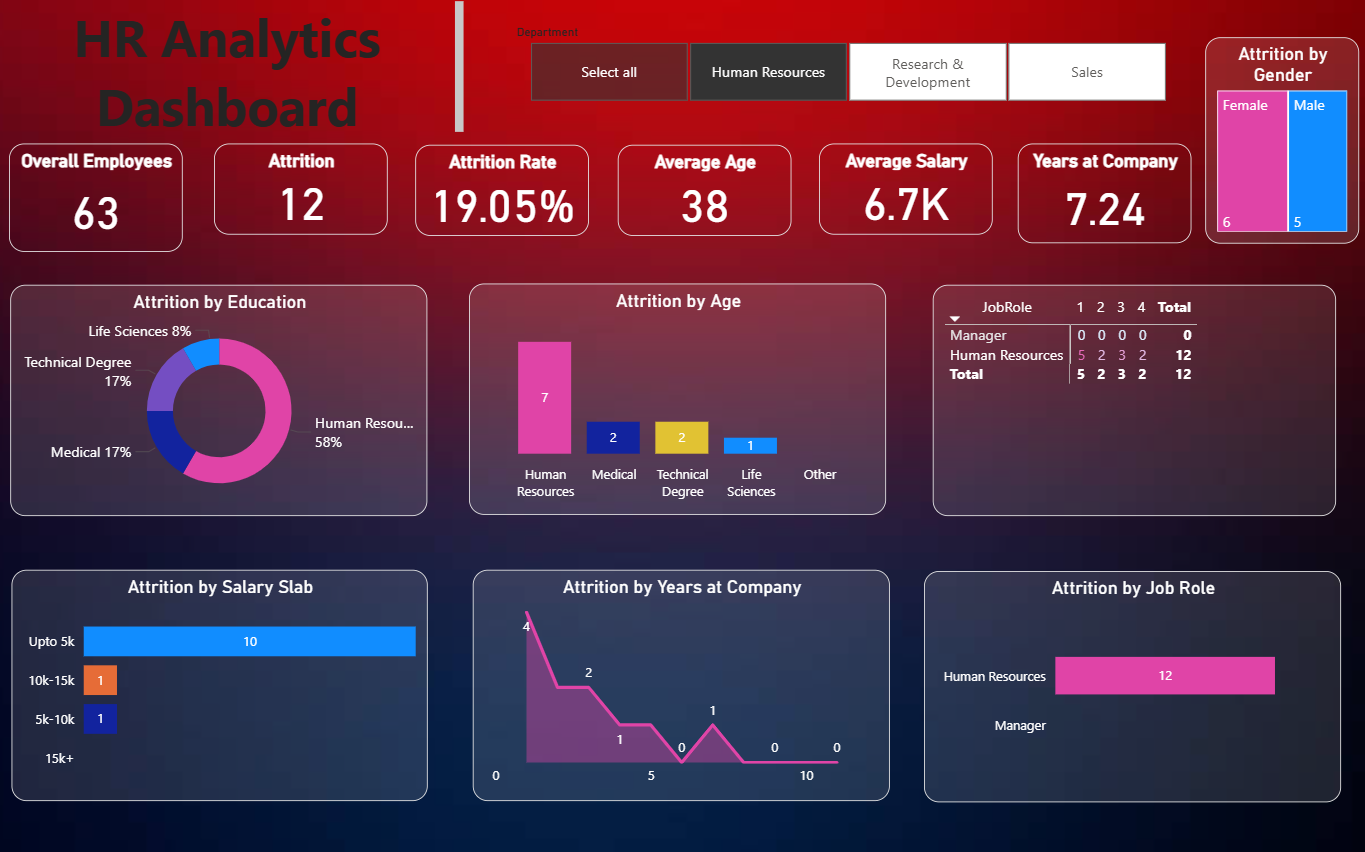

Layout of this report page (visuals, bound fields, positions):
{"tool":"powerbi","page":{"name":"Page 1","canvas":[1280,800],"ordinal":0},"visuals":[{"type":"card","title":"Overall Employees","fields":{"Values":["CountNonNull(HR_Analytics.EmpID)"]},"box":[14,137.2,161.6,101.2],"z":0},{"type":"card","title":"Attrition","fields":{"Values":["Sum(HR_Analytics.AttritionCount)"]},"box":[204.7,137.2,161.6,84.9],"z":1000},{"type":"card","title":"Attrition Rate","fields":{"Values":["HR_Analytics.AttritionRate"]},"box":[391.9,138.4,161.6,84.9],"z":2000},{"type":"card","title":"Average Age","fields":{"Values":["Avg(HR_Analytics.Age)"]},"box":[580.2,138.4,161.6,84.9],"z":3000},{"type":"card","title":"Average Salary","fields":{"Values":["Avg(HR_Analytics.MonthlyIncome)"]},"box":[767.4,137.2,161.6,84.9],"z":4000},{"type":"card","title":"Years at Company","fields":{"Values":["Avg(HR_Analytics.YearsAtCompany)"]},"box":[952.3,137.2,161.6,93],"z":5000},{"type":"donutChart","title":"Attrition by Education","fields":{"Category":["HR_Analytics.EducationField"],"Y":["Sum(HR_Analytics.AttritionCount)"]},"box":[15.1,268.6,388.4,215.1],"z":6000},{"type":"columnChart","title":"Attrition by Age","fields":{"Category":["HR_Analytics.EducationField"],"Y":["Sum(HR_Analytics.AttritionCount)"],"Series":["HR_Analytics.EducationField"]},"box":[441.9,267.4,388.4,215.1],"z":7000},{"type":"pivotTable","fields":{"Rows":["HR_Analytics.JobRole"],"Columns":["HR_Analytics.JobSatisfaction"],"Values":["Sum(HR_Analytics.AttritionCount)"]},"box":[873.3,268.6,375.6,215.1],"z":8000},{"type":"barChart","title":"Attrition by Salary Slab","fields":{"Category":["HR_Analytics.SalarySlab"],"Y":["Sum(HR_Analytics.AttritionCount)"],"Series":["HR_Analytics.SalarySlab"]},"box":[16.3,533.7,387.2,215.1],"z":9000},{"type":"barChart","title":"Attrition by Job Role","fields":{"Category":["HR_Analytics.JobRole"],"Y":["Sum(HR_Analytics.AttritionCount)"],"Series":["HR_Analytics.JobRole"]},"box":[865.1,534.9,388.4,215.1],"z":10000},{"type":"areaChart","title":"Attrition by Years at Company","fields":{"Category":["HR_Analytics.YearsAtCompany"],"Y":["Sum(HR_Analytics.AttritionCount)"]},"box":[445.4,533.7,388.4,215.1],"z":11000},{"type":"treemap","title":"Attrition by Gender","fields":{"Group":["HR_Analytics.Gender"],"Values":["Sum(HR_Analytics.AttritionCount)"]},"box":[1126.7,38.4,143,191.9],"z":12000},{"type":"slicer","fields":{"Values":["HR_Analytics.Department"]},"box":[473.3,22.1,640.7,82.6],"z":13000},{"type":"textbox","box":[0,0,441.9,134.9],"z":14000}]}

Visuals, with their boxes in screenshot pixels (x1, y1, x2, y2), scaled from the page's 1280x800 canvas onto the 1365x852 screenshot:
"Overall Employees" card: region(15, 146, 187, 254)
"Attrition" card: region(218, 146, 391, 237)
"Attrition Rate" card: region(418, 147, 590, 238)
"Average Age" card: region(619, 147, 791, 238)
"Average Salary" card: region(818, 146, 991, 237)
"Years at Company" card: region(1016, 146, 1188, 245)
"Attrition by Education" donutChart: region(16, 286, 430, 515)
"Attrition by Age" columnChart: region(471, 285, 885, 514)
pivotTable - HR_Analytics.JobRole x HR_Analytics.JobSatisfaction: region(931, 286, 1332, 515)
"Attrition by Salary Slab" barChart: region(17, 568, 430, 797)
"Attrition by Job Role" barChart: region(923, 570, 1337, 799)
"Attrition by Years at Company" areaChart: region(475, 568, 889, 797)
"Attrition by Gender" treemap: region(1202, 41, 1354, 245)
slicer - HR_Analytics.Department: region(505, 24, 1188, 112)
textbox: region(0, 0, 471, 144)
